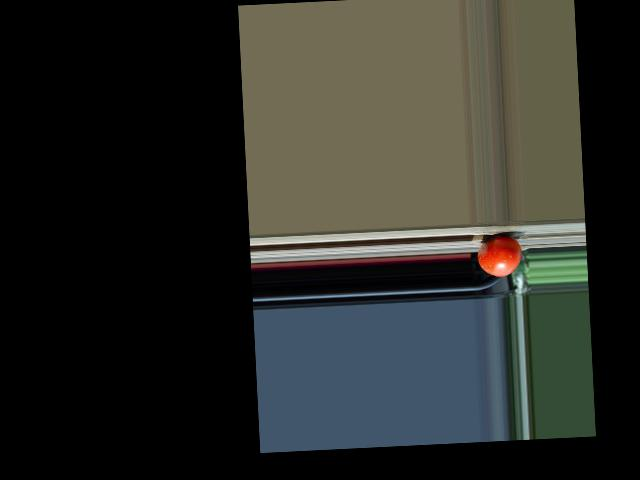tomato: (477, 235, 523, 278)
